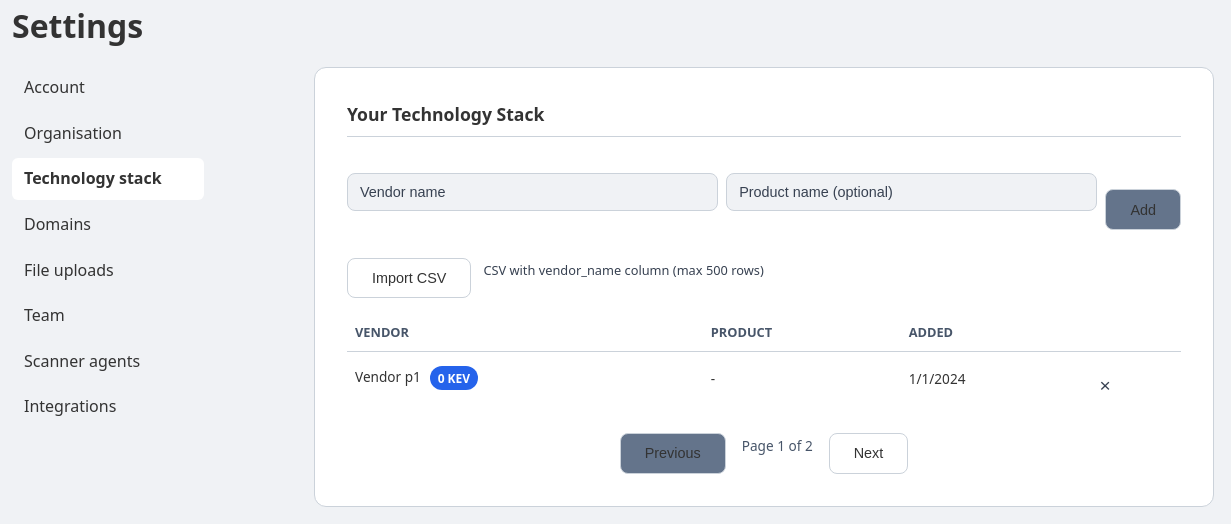
Test: Technology page › keeps an unsaved Technology draft while paging, and loads page 1 exactly once
Expected: the text "Vendor p1" is shown, [355, 368, 421, 387]
Type "Draft Vendor" into the field with placeholder "Vendor name" at (533, 192), box [347, 173, 718, 210]
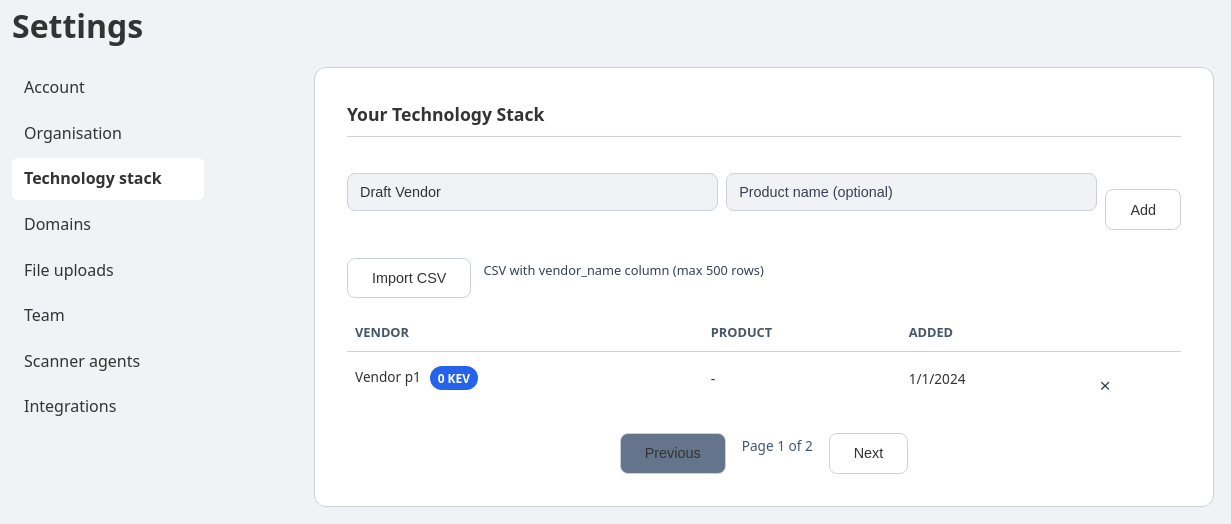
Click the button "Next" at (868, 454), box [829, 433, 908, 474]
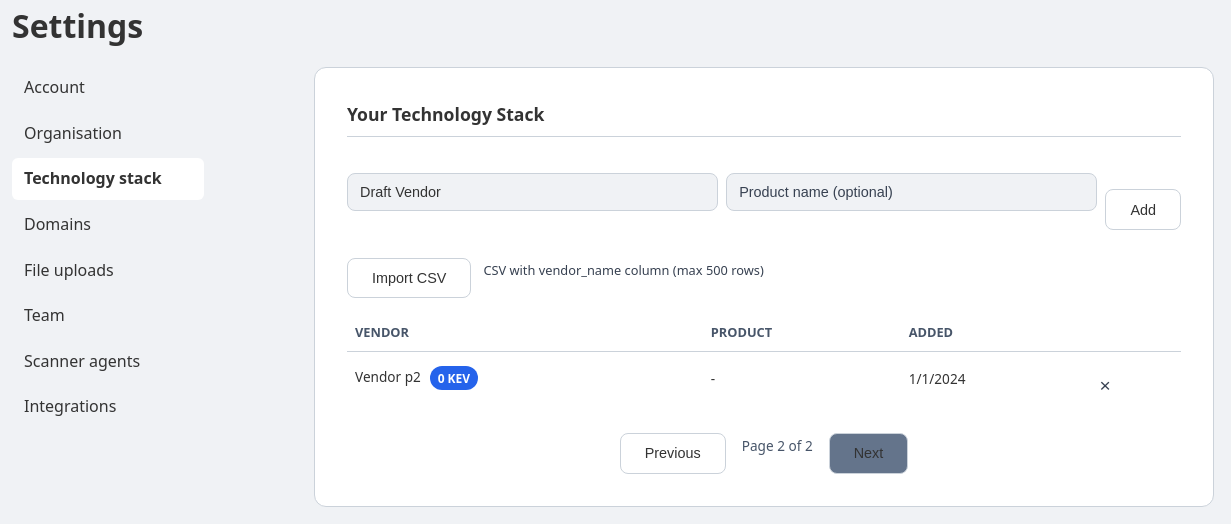
Now the text "Vendor p2" is shown, box [355, 368, 421, 387]
Now the text "Page 2 of 2" is shown, box [742, 435, 813, 456]
